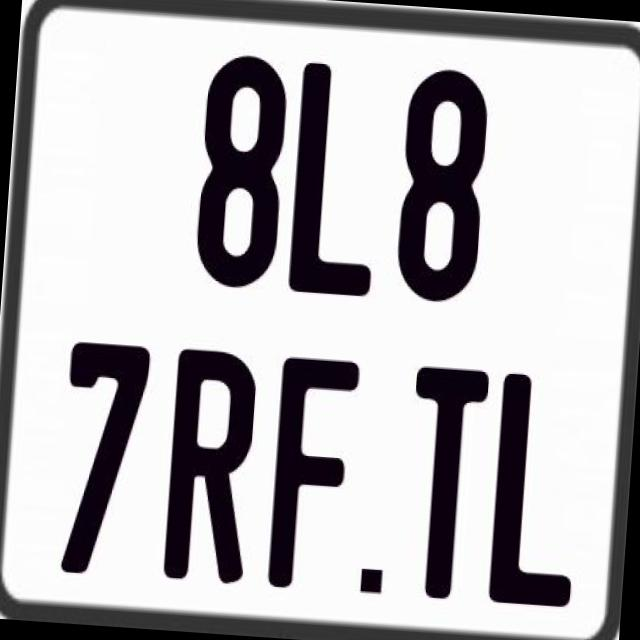7: (52, 339, 148, 581)
8: (394, 64, 494, 308), (190, 53, 290, 290)
F: (264, 351, 362, 595)
L: (487, 372, 591, 616), (283, 57, 385, 299)
R: (160, 348, 256, 586)
T: (398, 360, 495, 605)
